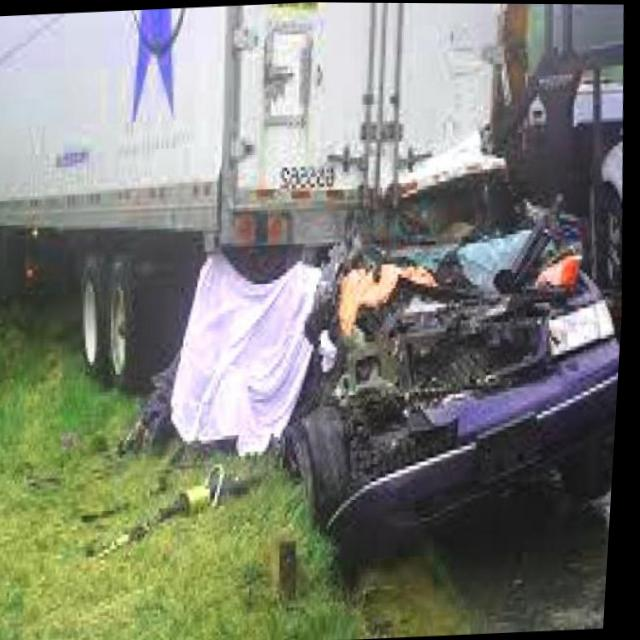Car-Damage: (295, 225, 615, 530)
